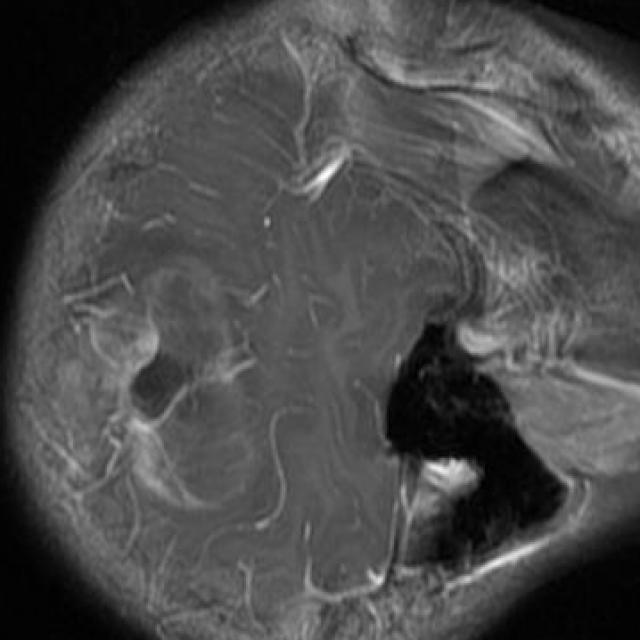glioma: (82, 258, 244, 517)
